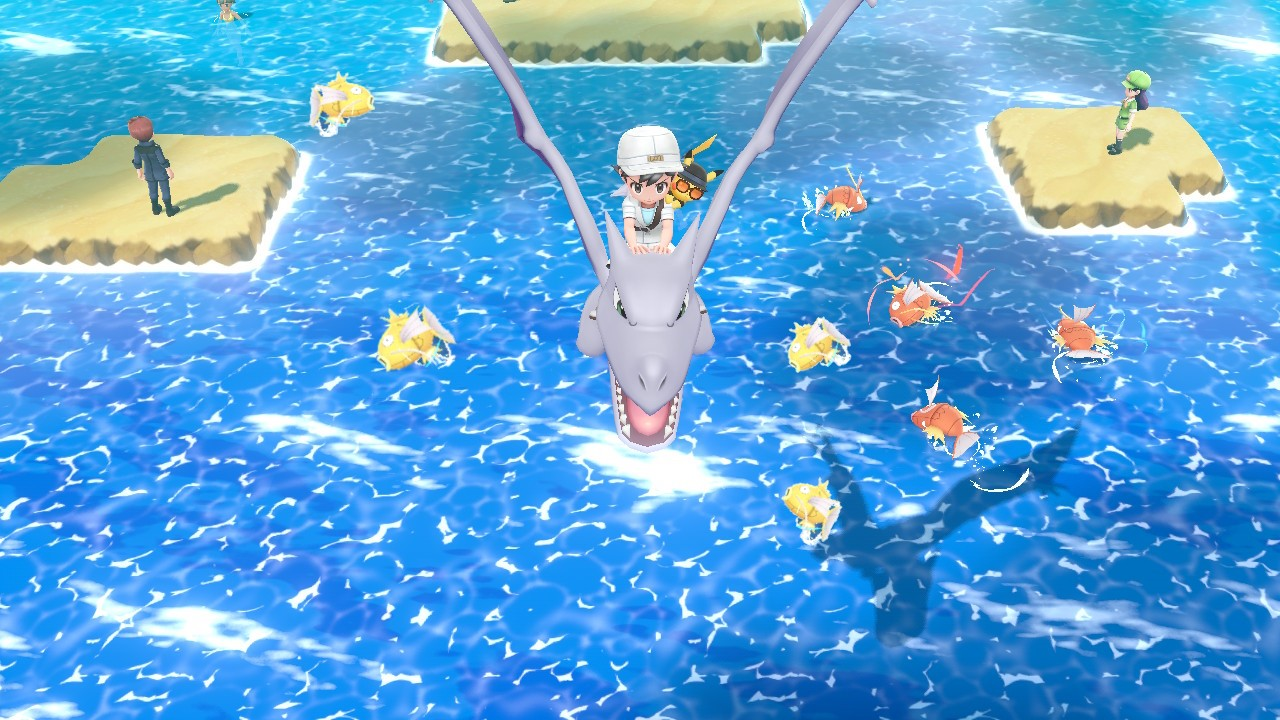Golden: (376, 308, 453, 374), (308, 75, 377, 136), (784, 474, 841, 544), (784, 315, 848, 373)
Red: (908, 387, 981, 460), (1046, 303, 1115, 366), (882, 274, 952, 332), (810, 178, 868, 218)
